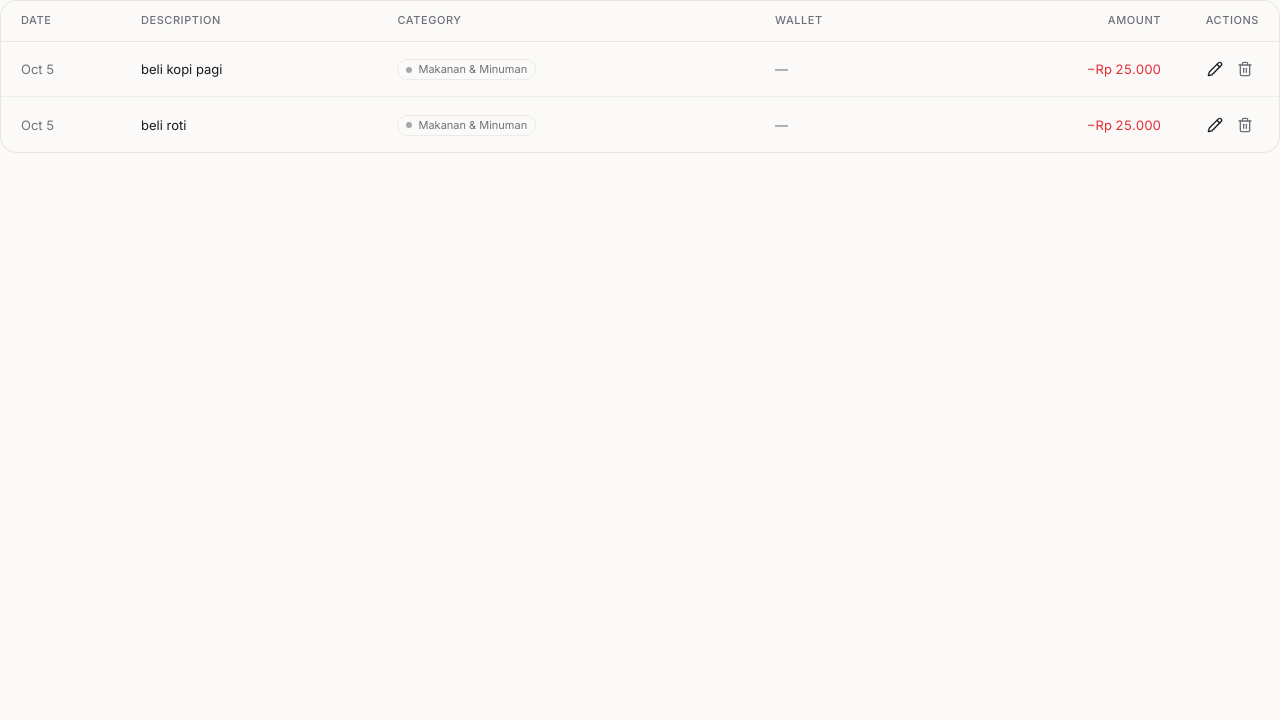
Test: U-11: restore failure is reported honestly › 500 -> exact failure copy, no fake success, no refetch claim
Click the button named "Delete transaction" in the row of "beli kopi pagi" at (1245,69), box x1=1231 y1=55 x2=1259 y2=83
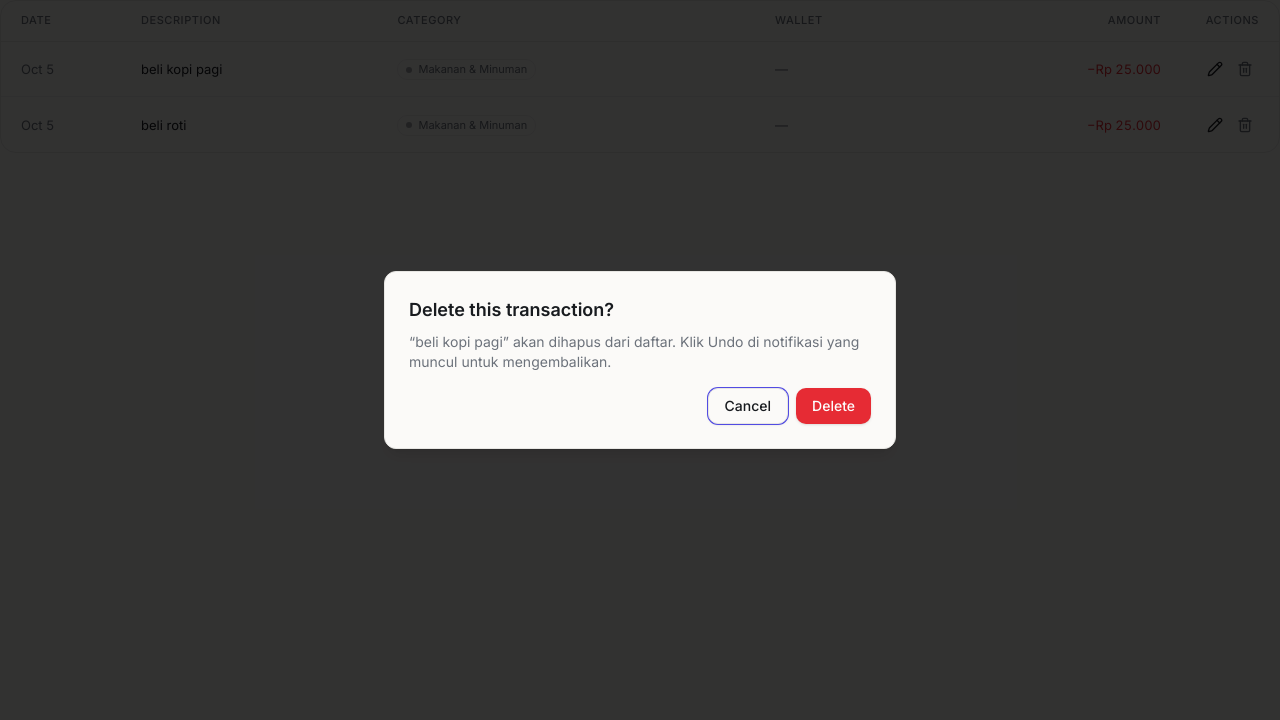
Check: the text "✓ Transaksi dihapus" is not shown
Click the button "Delete" at (834,406), box x1=796 y1=388 x2=871 y2=424
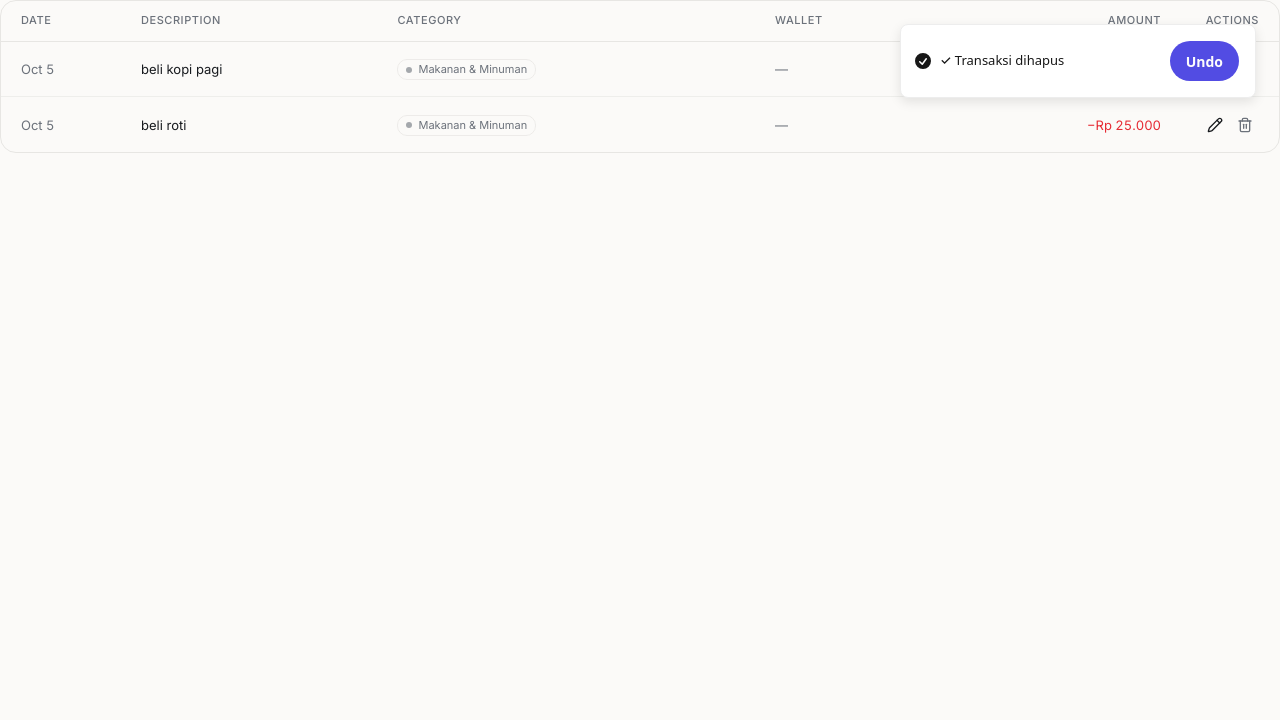
Check: the text "✓ Transaksi dihapus" is shown, box x1=940 y1=51 x2=1064 y2=71
Click the button "Undo" at (1204,61), box x1=1170 y1=41 x2=1239 y2=81
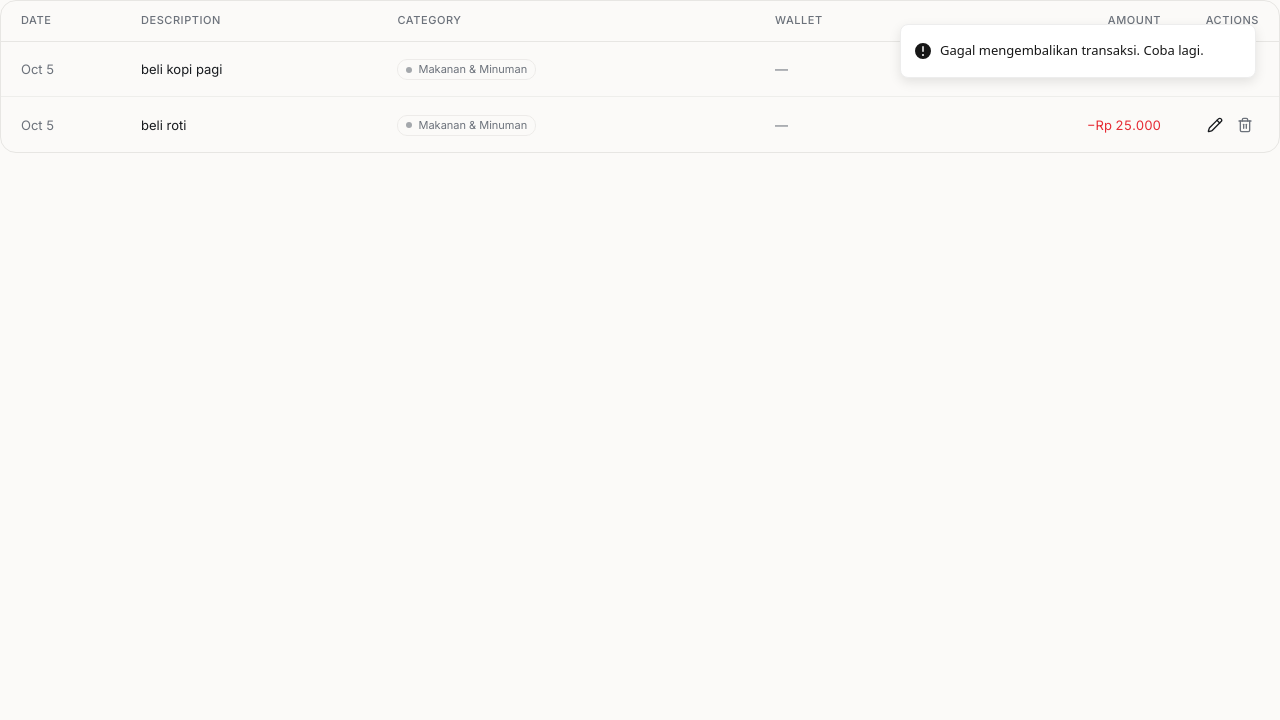
Check: the text "Gagal mengembalikan transaksi. Coba lagi." is shown, box x1=940 y1=41 x2=1204 y2=60
